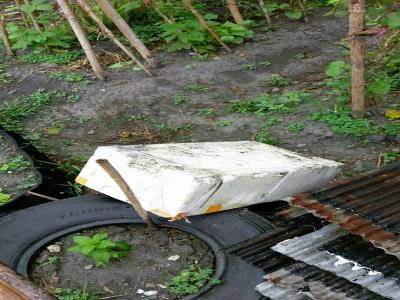styrofoam: (67, 137, 344, 222)
